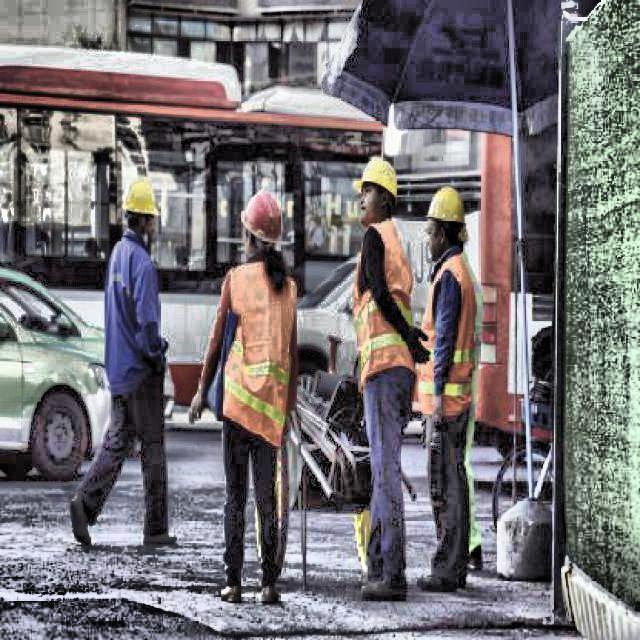safety_jacket: (221, 263, 298, 448), (417, 252, 486, 415), (353, 219, 416, 394)
